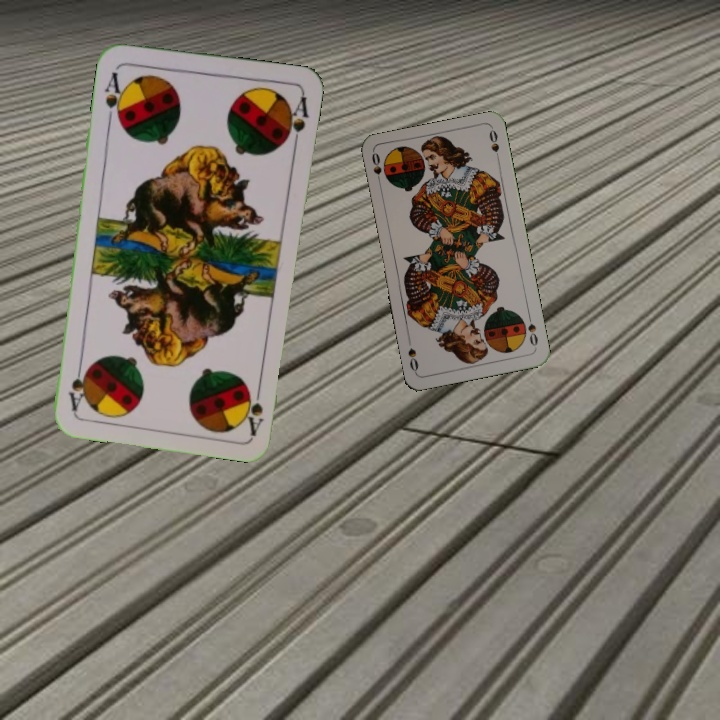SA: (101, 68, 128, 125), (242, 378, 266, 437)
SO: (368, 149, 384, 189), (524, 311, 540, 349)
